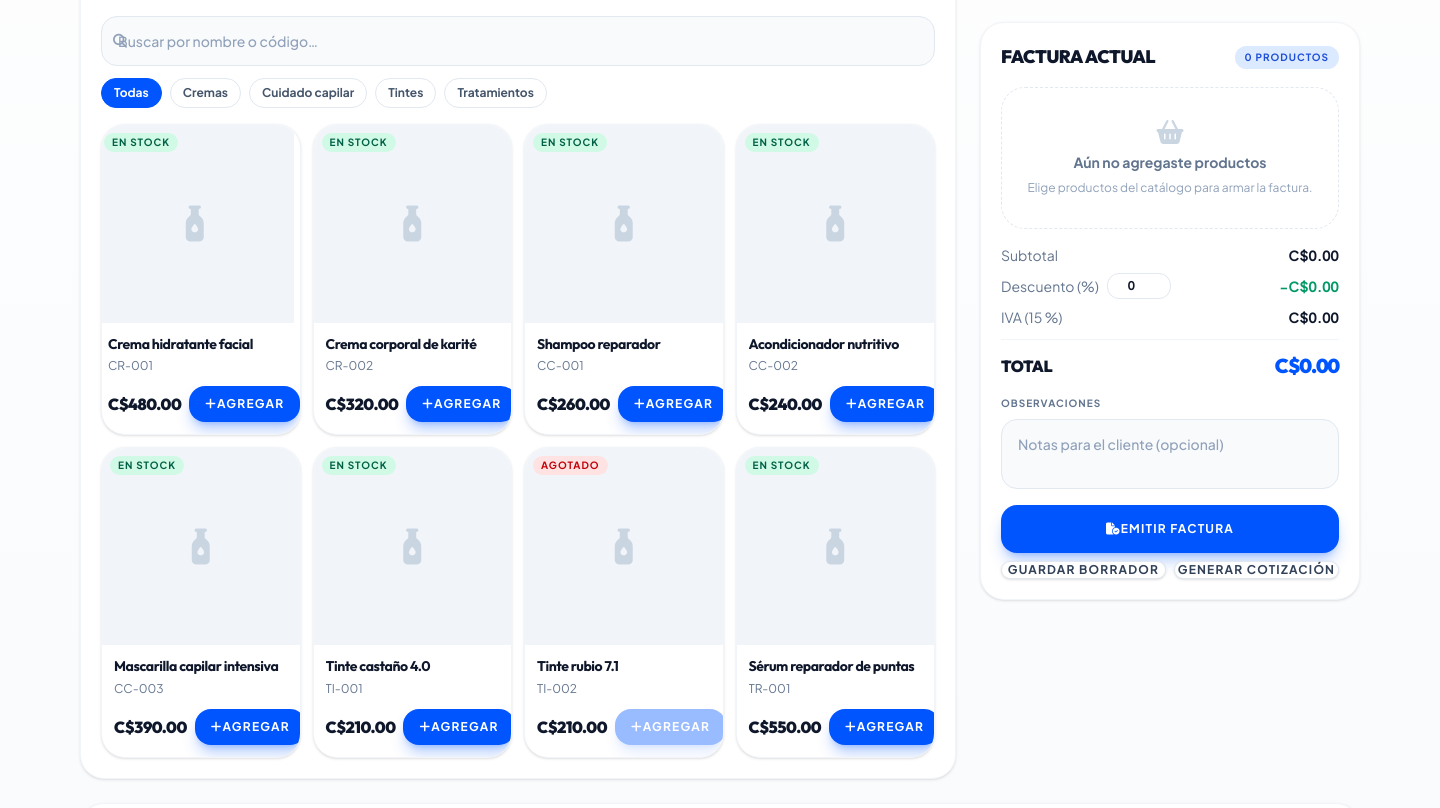
Test: NewInvoiceComponent › debe agregar productos y recalcular los totales
(page scrolled)
Click the button with test id "billing-add-product" next to "C$480.00". click: [245, 404]
box: [189,386,300,422]
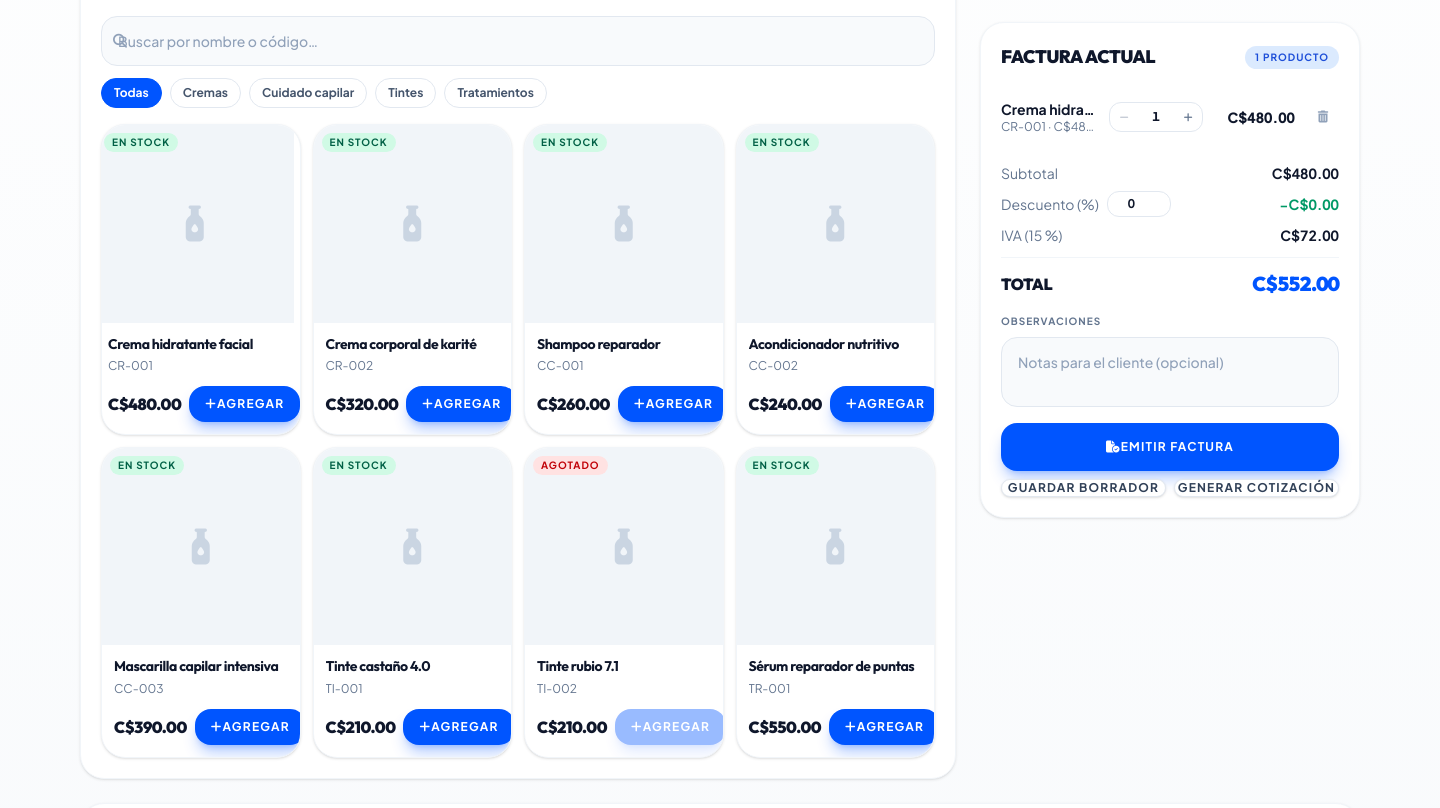
expect the text with test id "billing-draft-count" reads "1 producto": met, box [1255,50,1329,62]
expect the text with test id "billing-totals-tax" reads "C$72.00": met, box [1280,226,1339,244]
expect the text with test id "billing-totals-total" reads "C$552.00": met, box [1252,271,1339,296]
